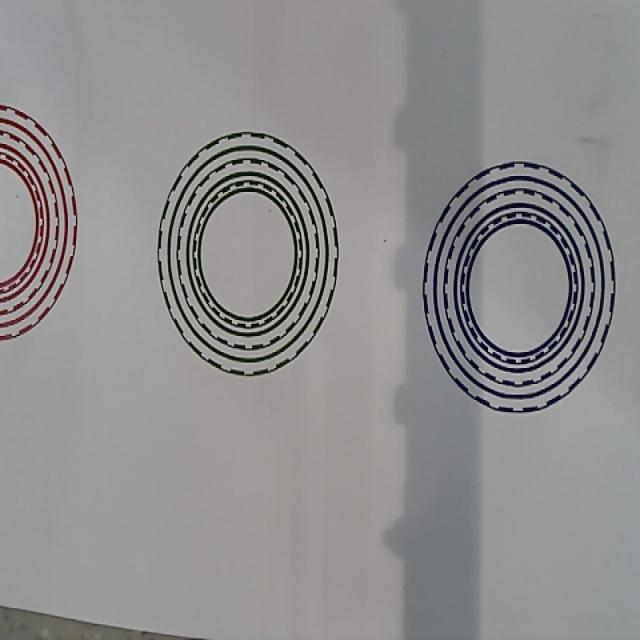b: (422, 160, 616, 414)
g: (157, 130, 338, 377)
